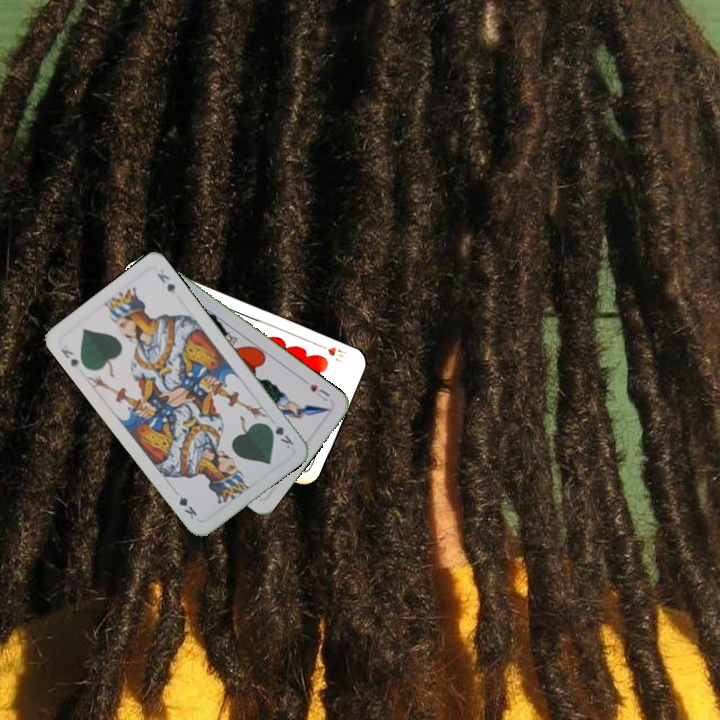GK: (263, 420, 296, 451), (56, 344, 83, 372)
H10: (313, 340, 349, 365)
HU: (305, 380, 332, 405)
